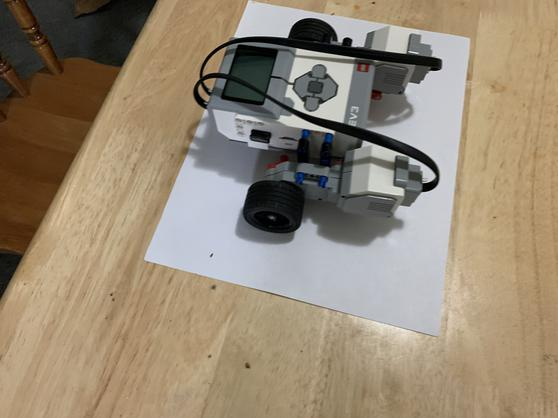robot: (193, 13, 448, 233)
